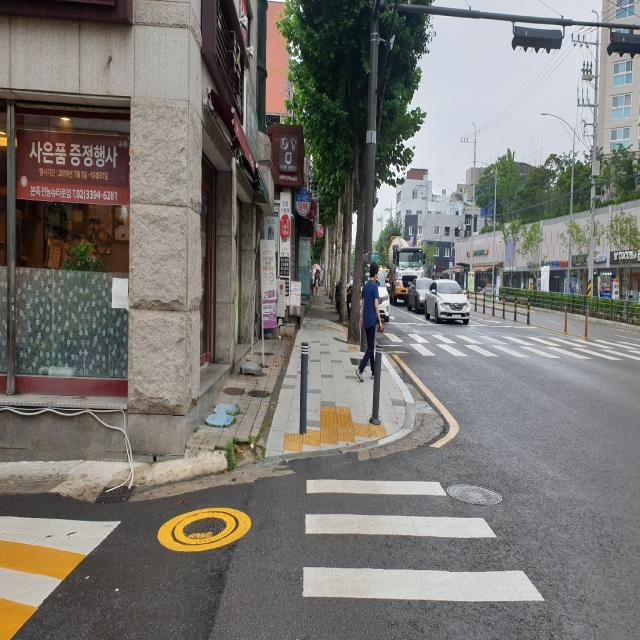횡단보도: (302, 477, 546, 605), (384, 327, 638, 359)
